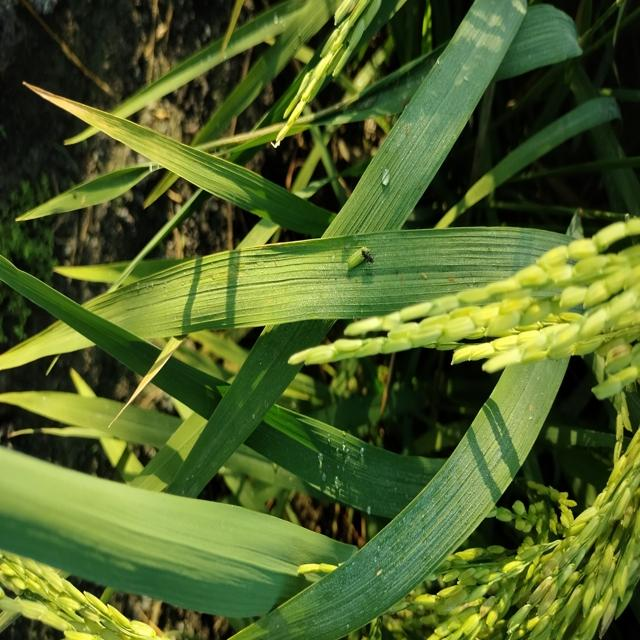healthy: (20, 76, 93, 124)
